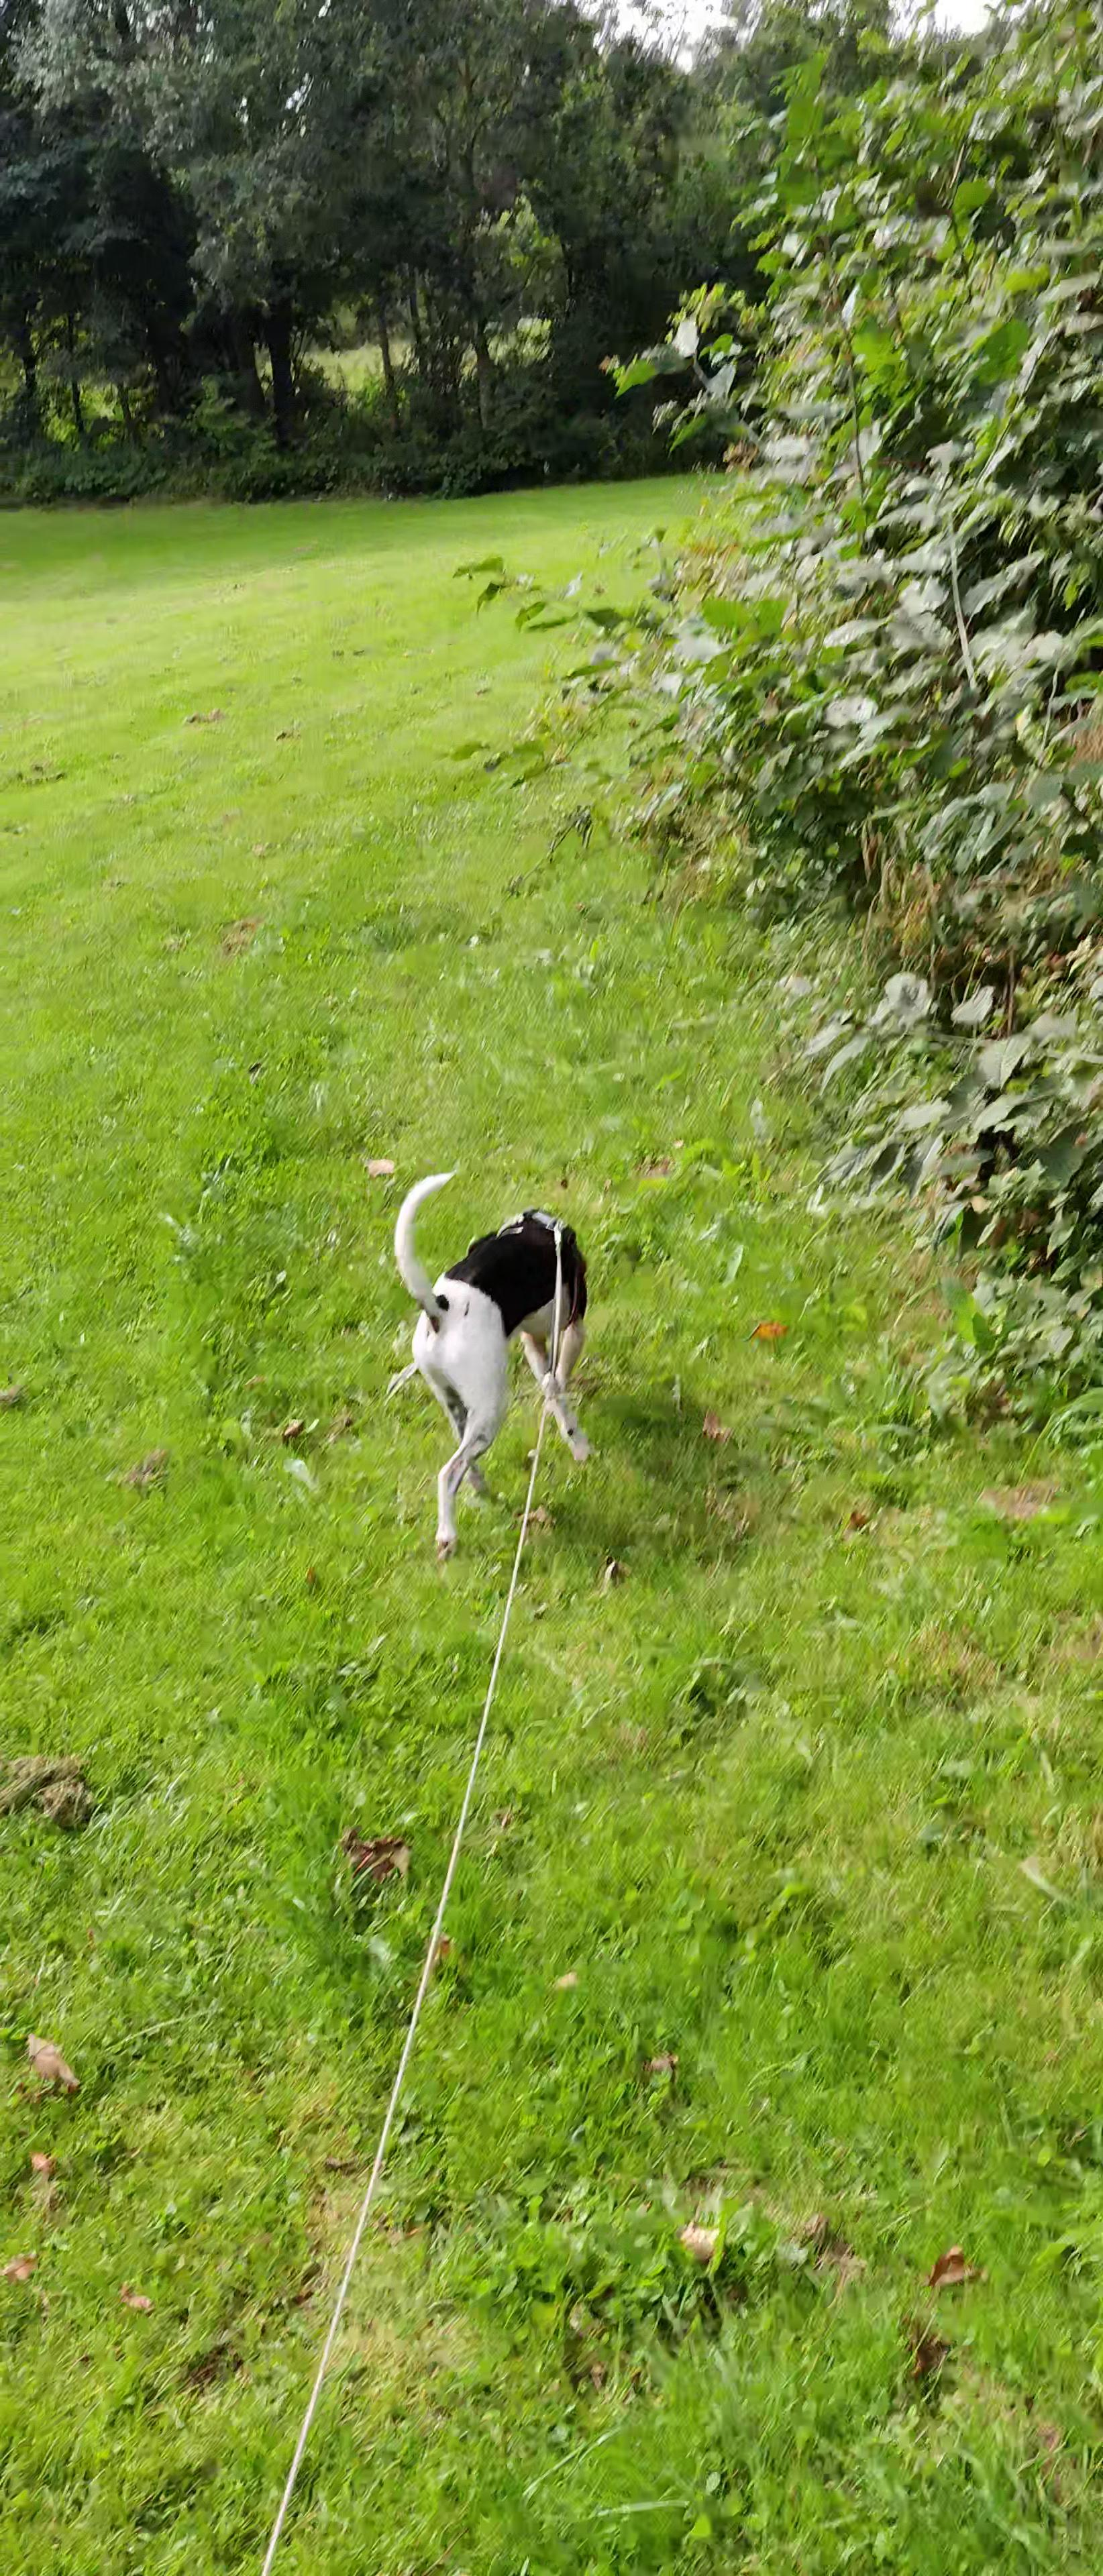Dog: (370, 1165, 607, 1571)
